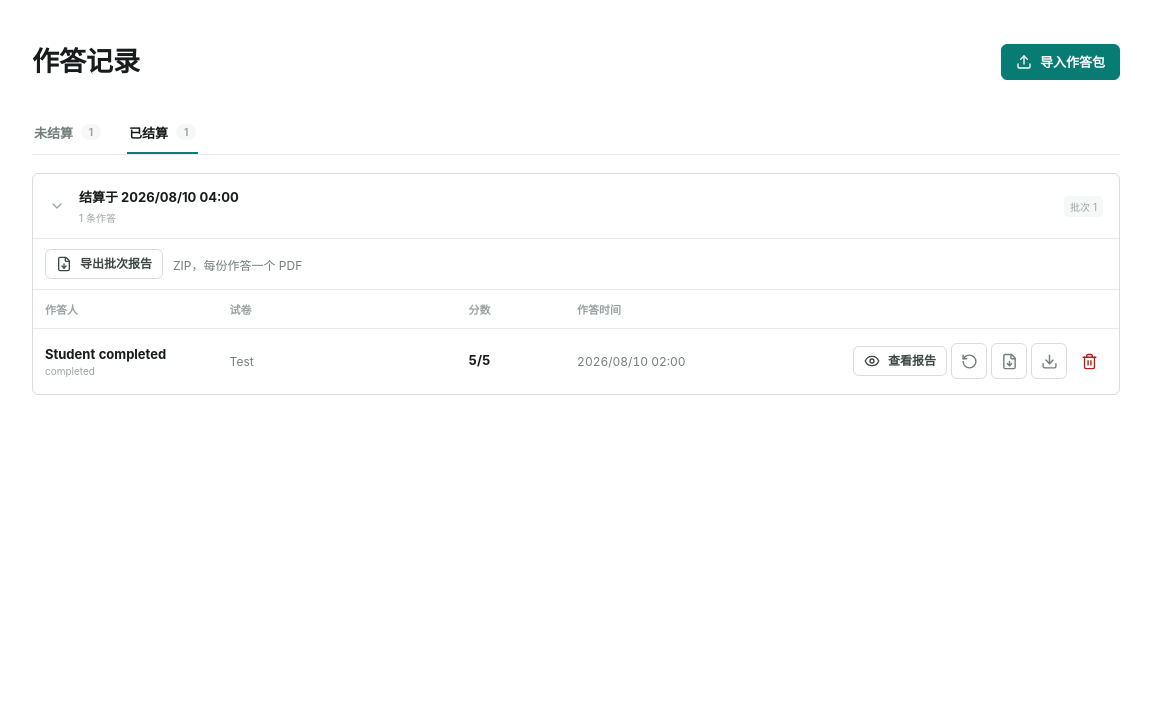
submission grading UI › separates unsettled submissions and settled batches and opens their report
This screenshot has width=1152, height=720.
Check: the button named "重新评分" is shown, box [951, 343, 987, 379]
Check: the button named "删除作答记录" is shown, box [1071, 343, 1107, 379]
Click the button "查看报告" at (900, 361), box [853, 346, 947, 376]
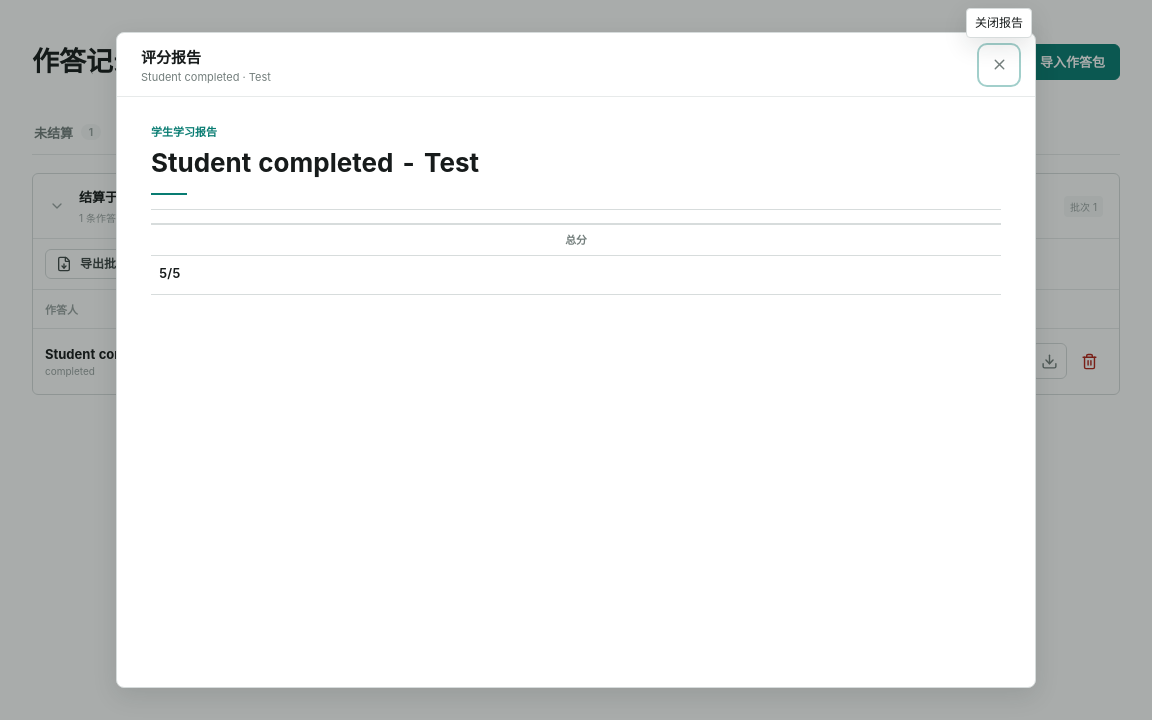
Check: the heading "评分报告" is shown, box [141, 48, 201, 66]
Check: the heading "Student completed - Test" is shown, box [151, 125, 1001, 210]
Check: the cell "5/5" is shown, box [151, 255, 1001, 295]
